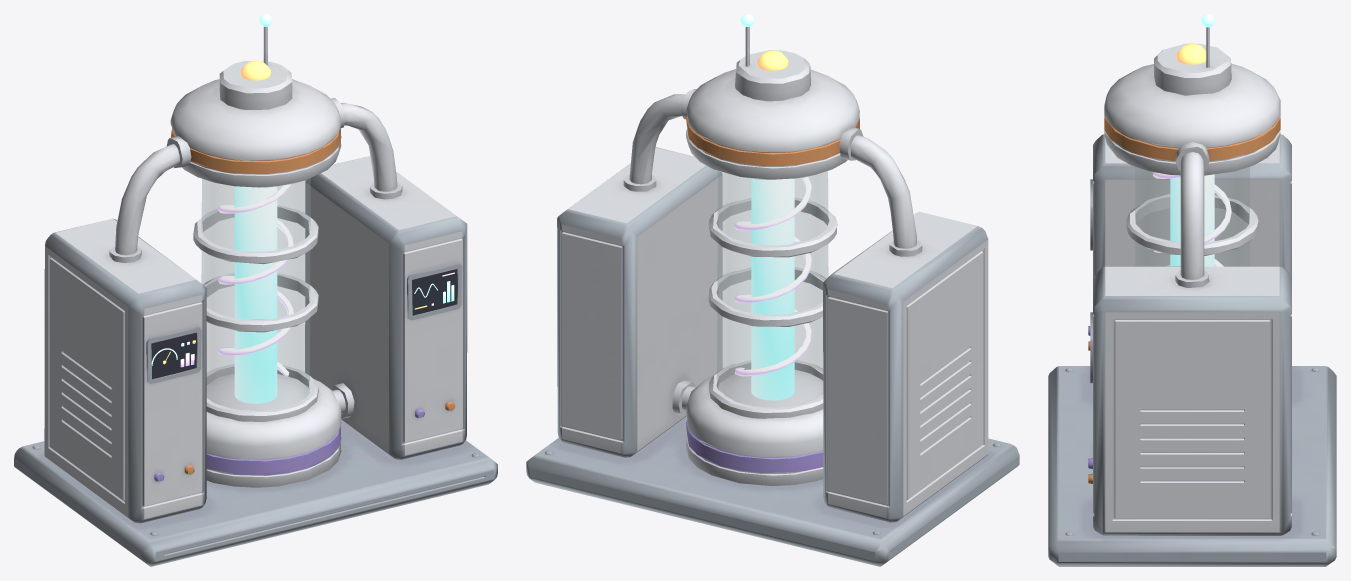
File: power-generator.glb
The picture shows the model from 3 angles, left to right: view 1: azimuth 30°, elevation 25°; view 2: azimuth 150°, elevation 25°; view 3: azimuth 270°, elevation 25°; orthographic projection. The views are drawn at different scales.
Visible parts, largest first — view 1: power-generator_body, power-generator_core_glass, power-generator_energy_glow; view 2: power-generator_body, power-generator_core_glass, power-generator_energy_glow; view 3: power-generator_body, power-generator_core_glass, power-generator_energy_glow.
Boxes of the visible parts, bbox=[...] form: power-generator_body: bbox=[14, 26, 497, 566]; power-generator_core_glass: bbox=[201, 178, 310, 409]; power-generator_energy_glow: bbox=[151, 14, 454, 403]; power-generator_body: bbox=[526, 27, 1019, 566]; power-generator_core_glass: bbox=[717, 171, 828, 406]; power-generator_energy_glow: bbox=[734, 14, 811, 400]; power-generator_body: bbox=[1048, 27, 1336, 566]; power-generator_core_glass: bbox=[1135, 167, 1249, 266]; power-generator_energy_glow: bbox=[1153, 14, 1231, 266].
Bounding box in the file's own units: 1.64 × 2 × 1.1.
5 materials, 1 textured.
